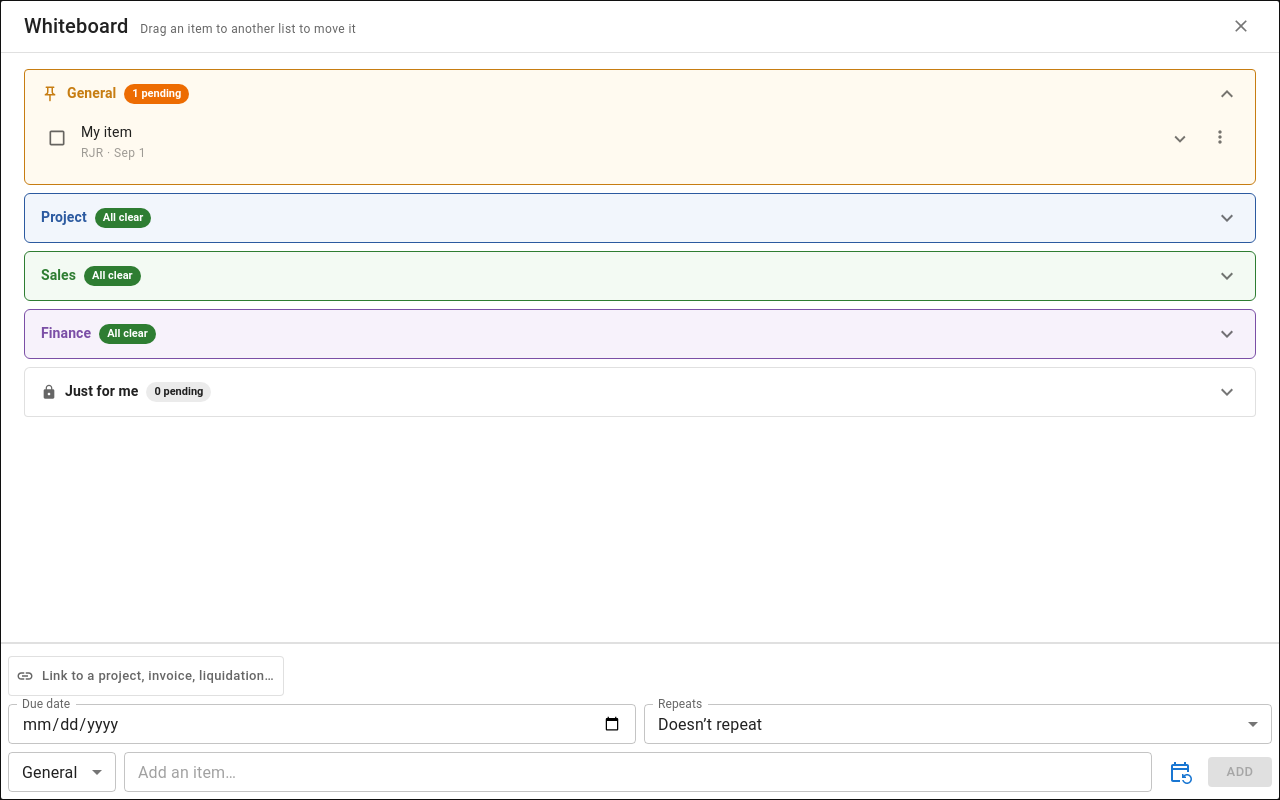
Test: phone layout › editing on a phone opens the same big-row picker instead of a small dropdown
This screenshot has width=1280, height=800.
Click the button named "item actions" at (1220, 137), box [1205,122,1235,152]
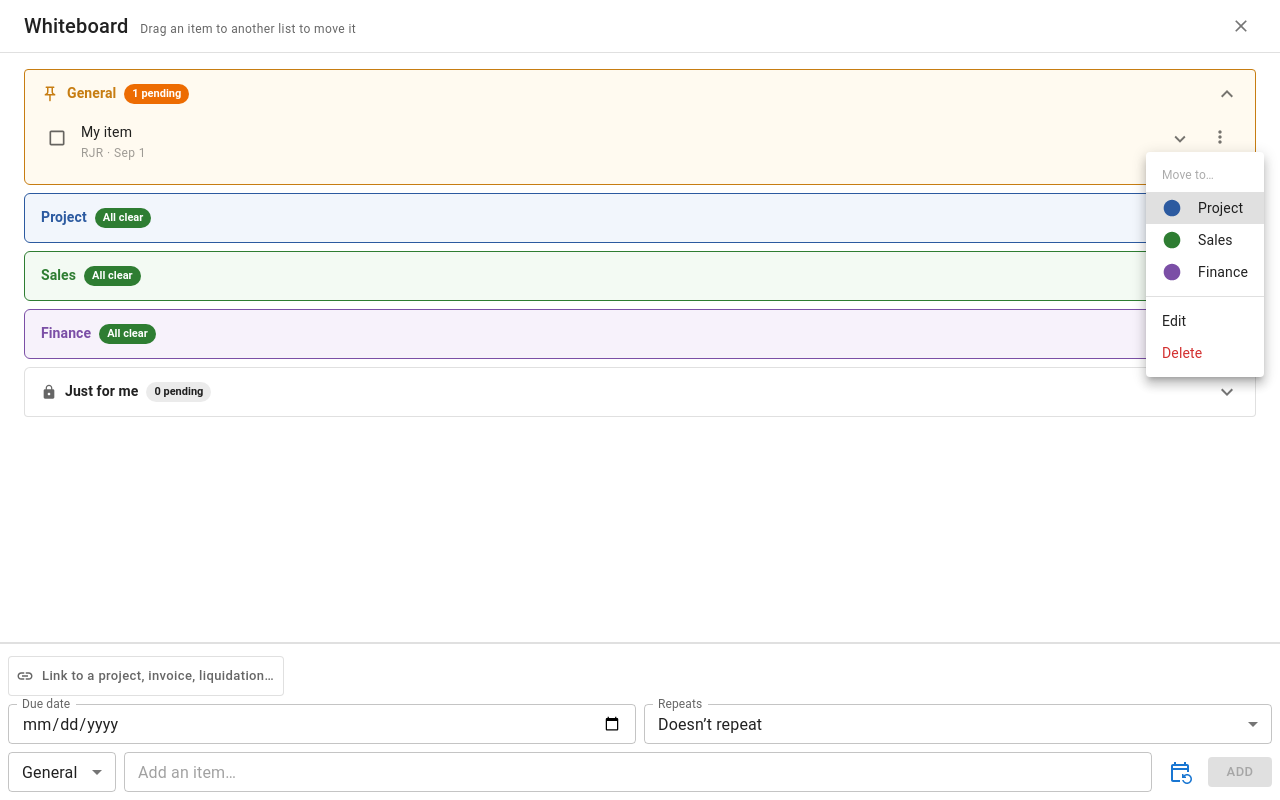
Click the menu item "Edit" at (1174, 321), box [1162,313,1186,329]
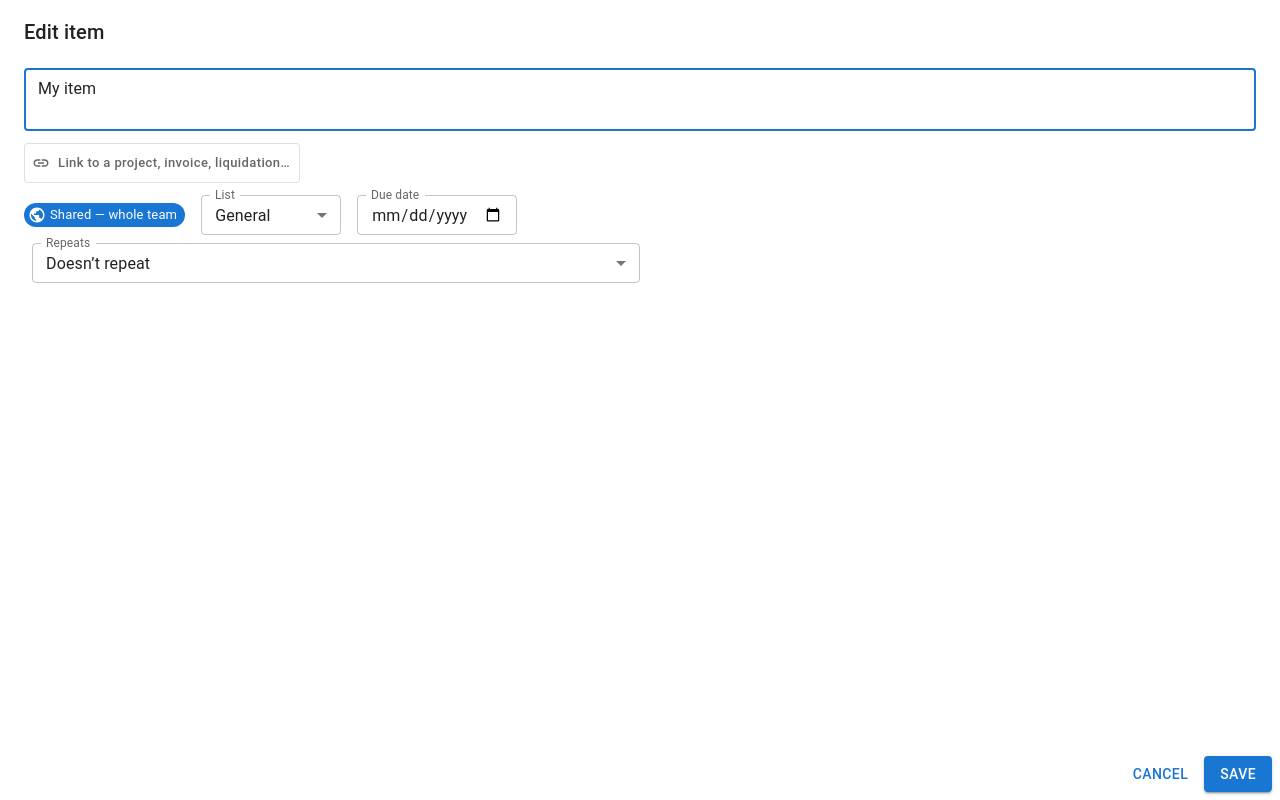
Click the button "Link to a project, invoice, liquidation…" at (162, 163), box [24,143,300,183]
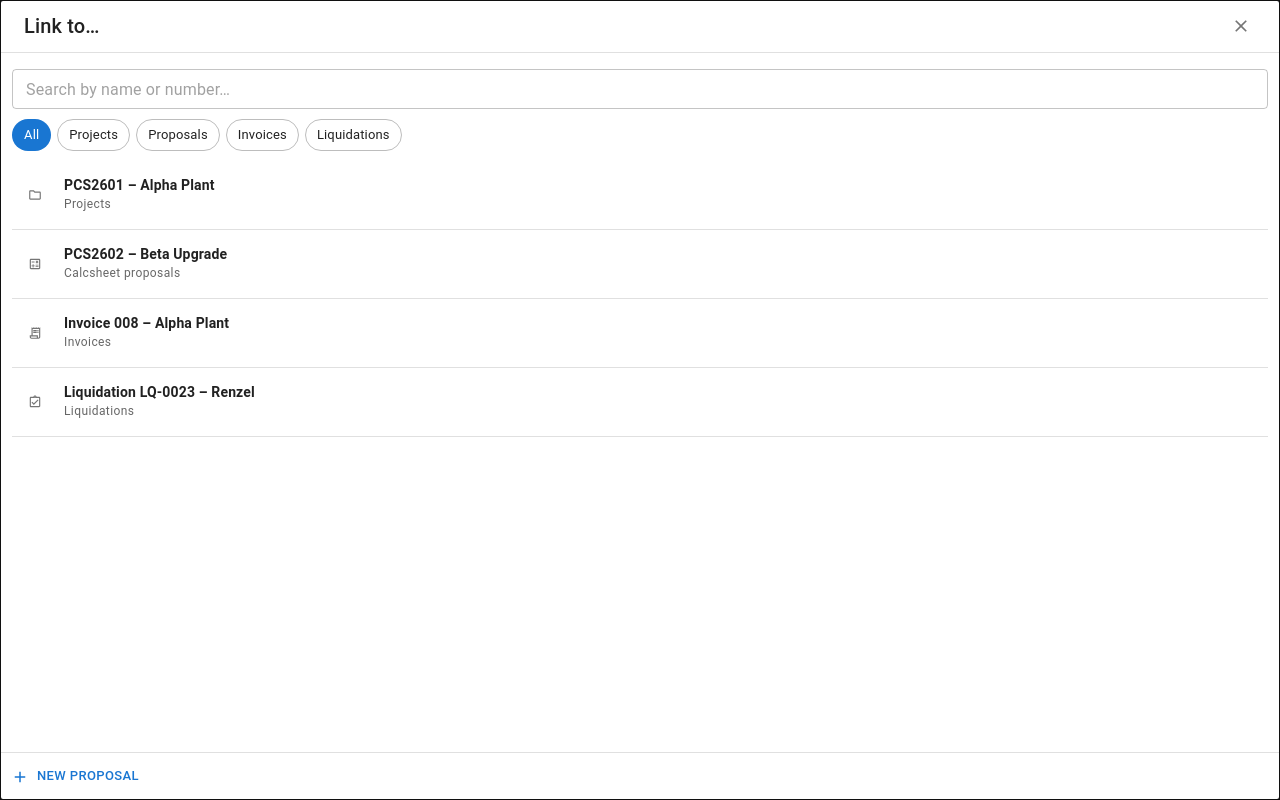
Expected: the element with test id "wb-link-picker" is shown
